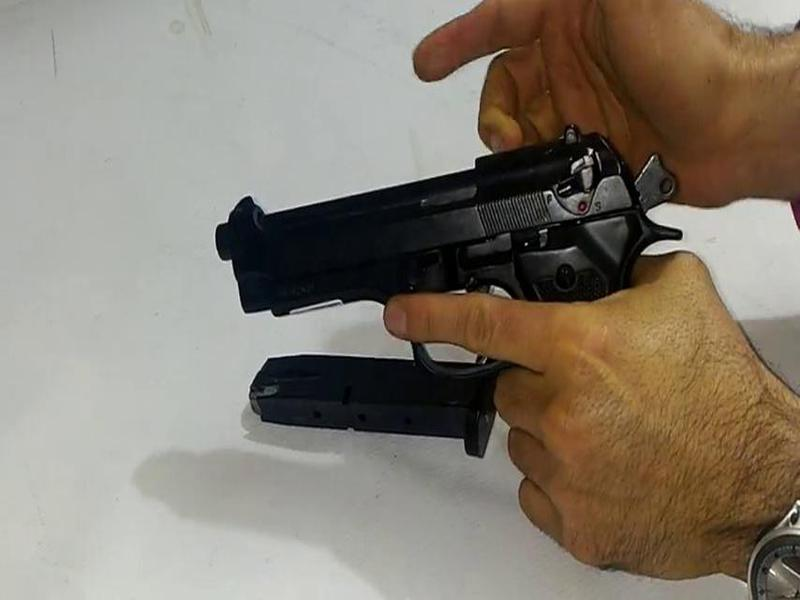Pistola: (182, 94, 687, 445)
